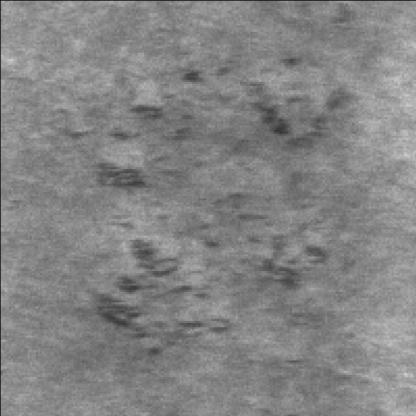rolled-in_scale: (79, 216, 351, 358), (77, 61, 268, 241), (229, 71, 366, 281)
